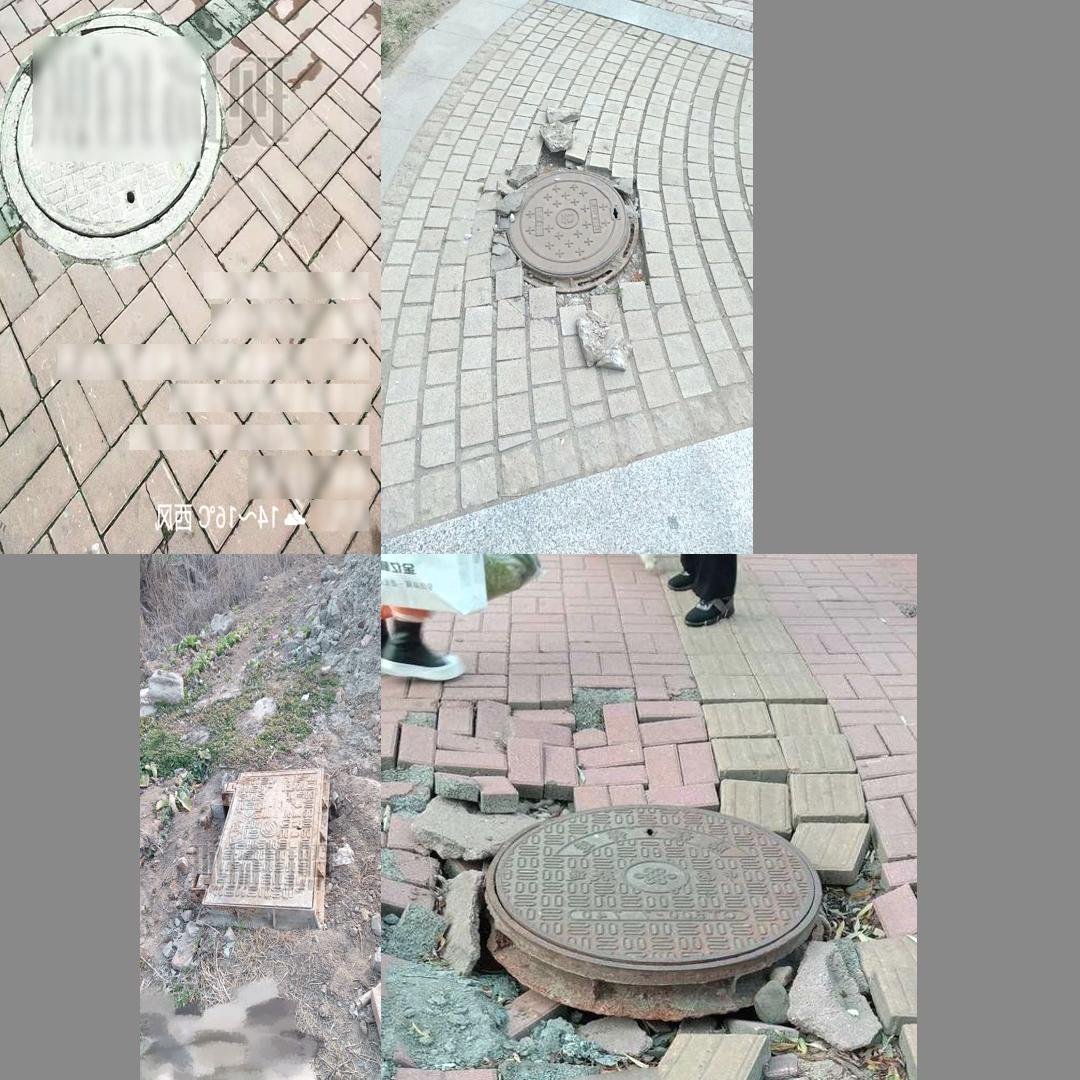circle: (387, 712, 905, 1080), (0, 14, 226, 268), (470, 133, 663, 321), (190, 763, 334, 933)
